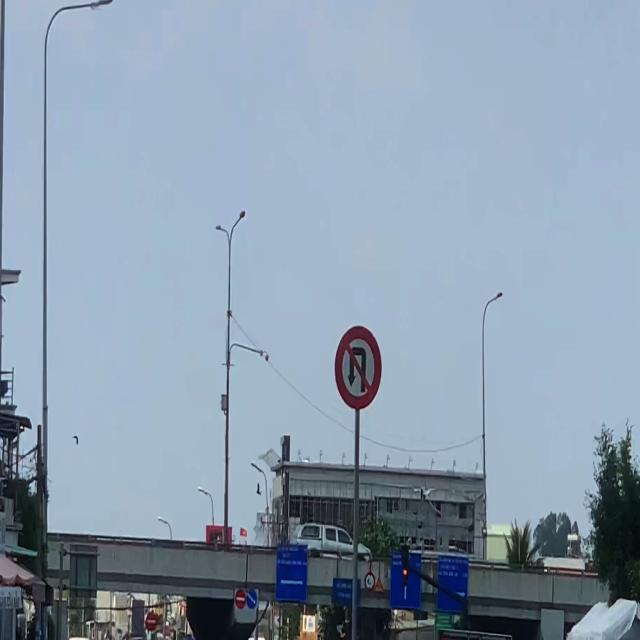Cam nguoc chieu: (235, 588, 246, 610)
Cam quay dau xe: (333, 319, 383, 411)
Chieu cao toi da: (362, 569, 376, 590)
Hieu lenh: (246, 588, 257, 610)
